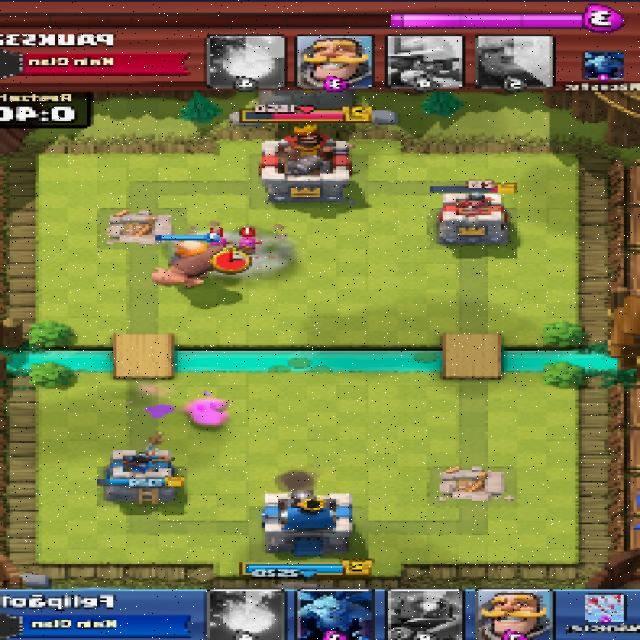Enemy-Archer: (232, 232, 264, 253), (208, 233, 230, 248)
Player-Giant: (150, 241, 238, 290)
